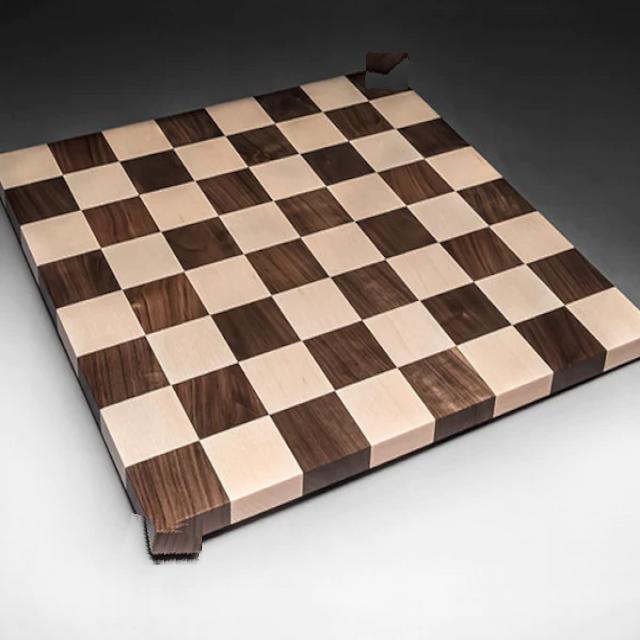chess-table-corners: (124, 518, 202, 565), (366, 53, 408, 90)
